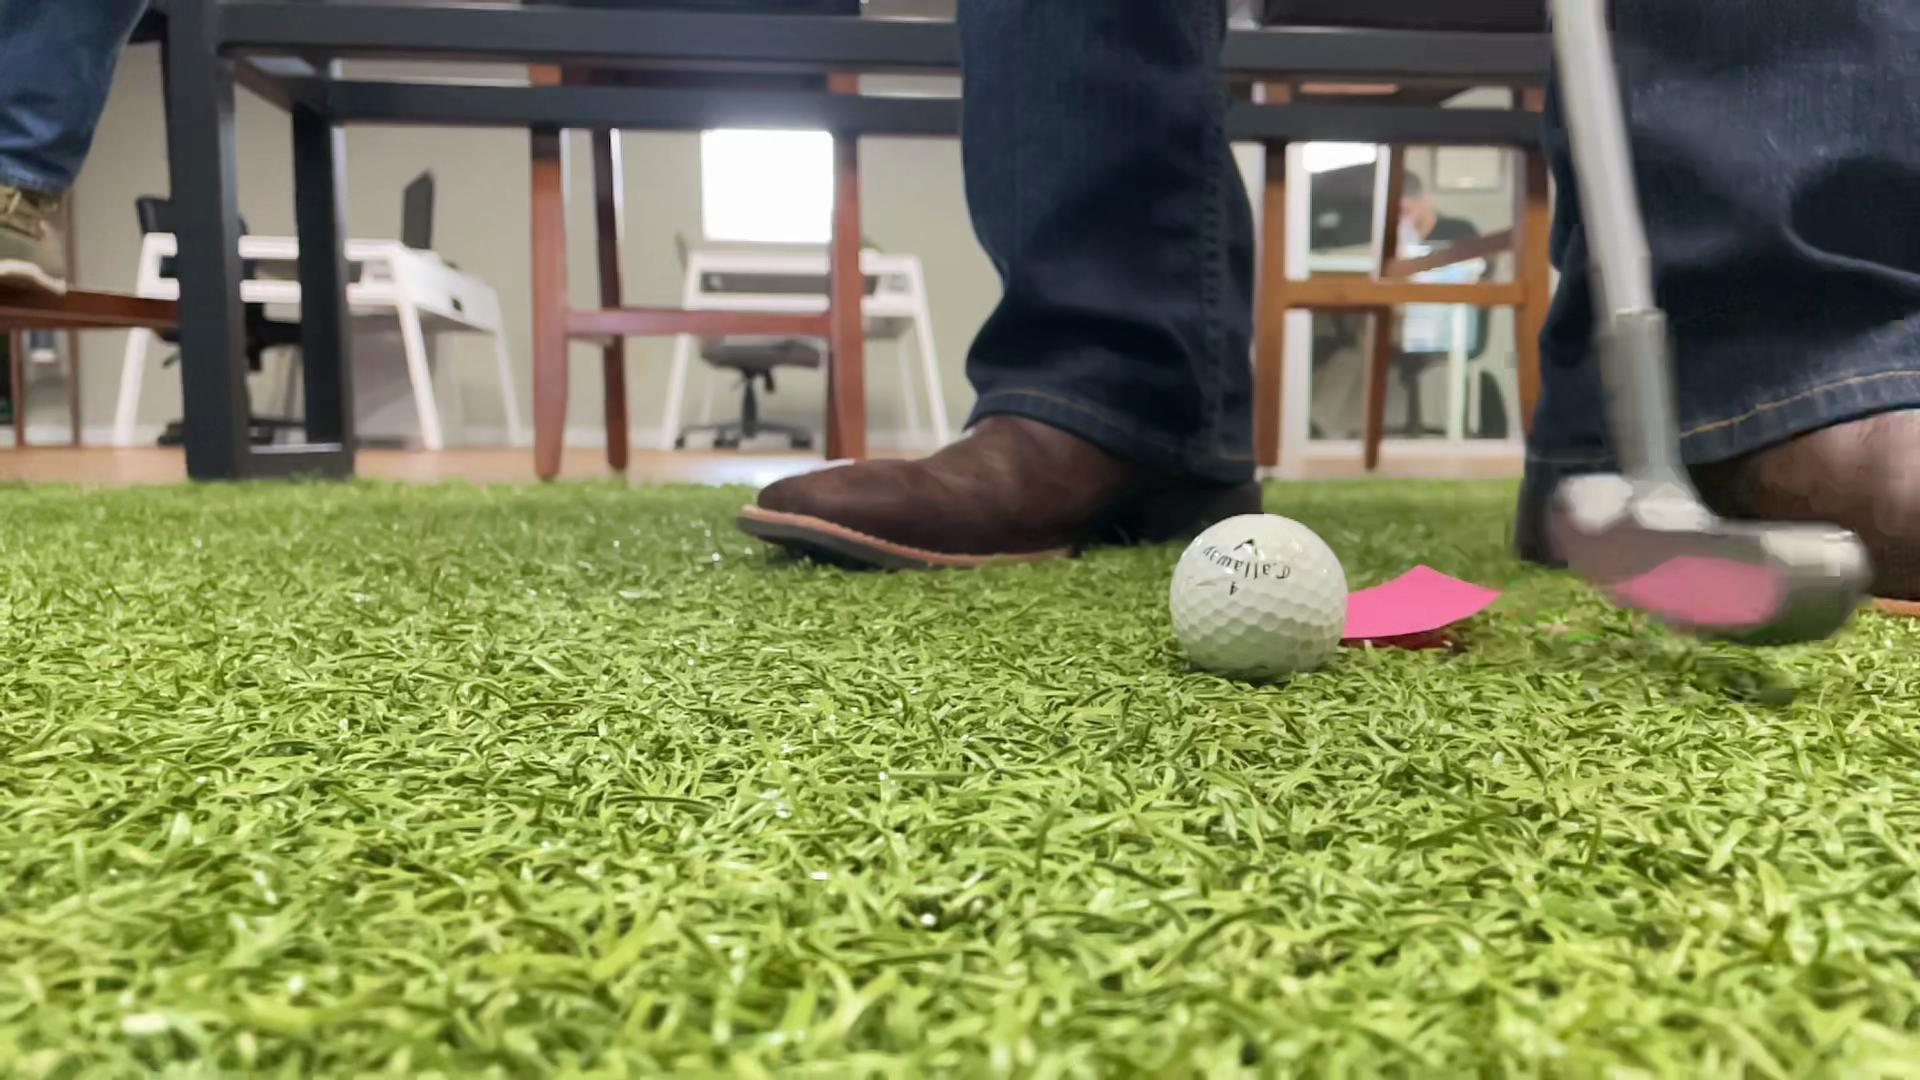golfball: (1169, 514, 1348, 682)
